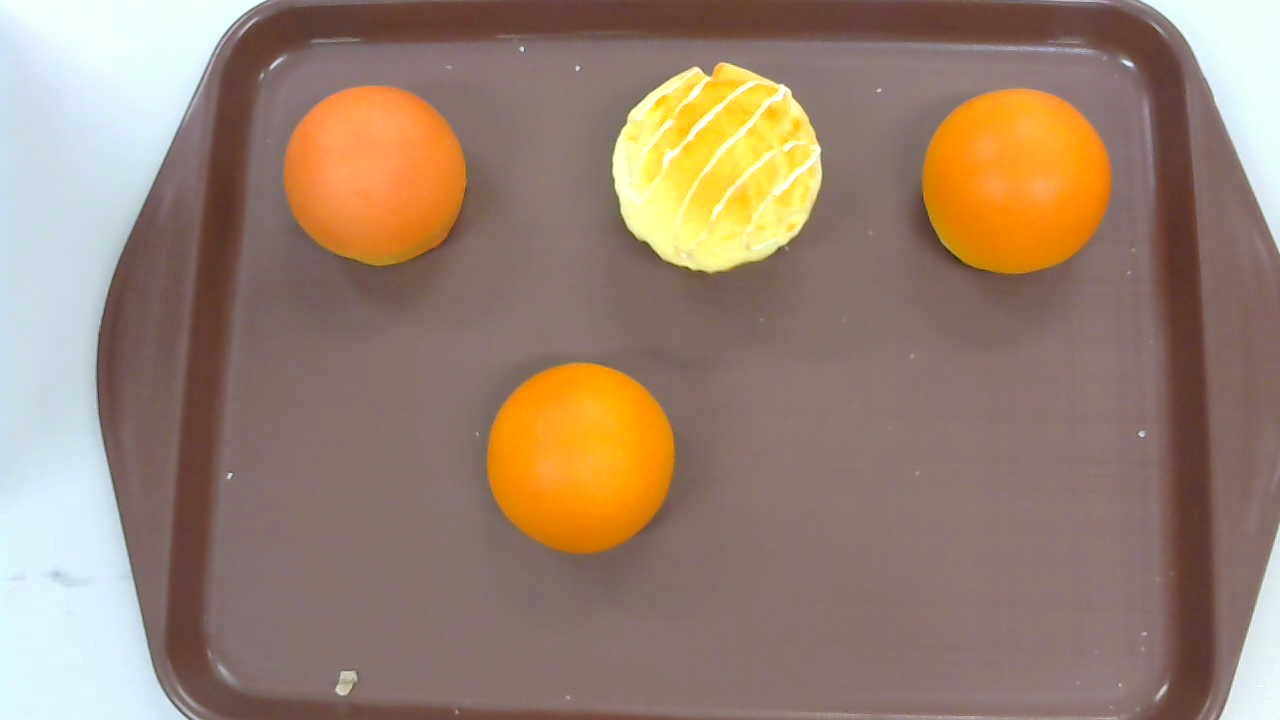bun: (487, 361, 675, 556), (921, 87, 1110, 275), (284, 84, 466, 267)
cupcake: (612, 59, 822, 275)
